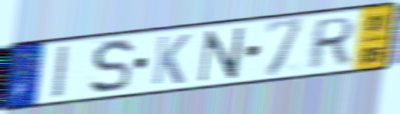7: (264, 16, 308, 80)
I: (51, 43, 72, 101)
K: (149, 32, 192, 87)
N: (196, 25, 247, 84)
R: (304, 15, 358, 72)
S: (88, 37, 136, 97)
